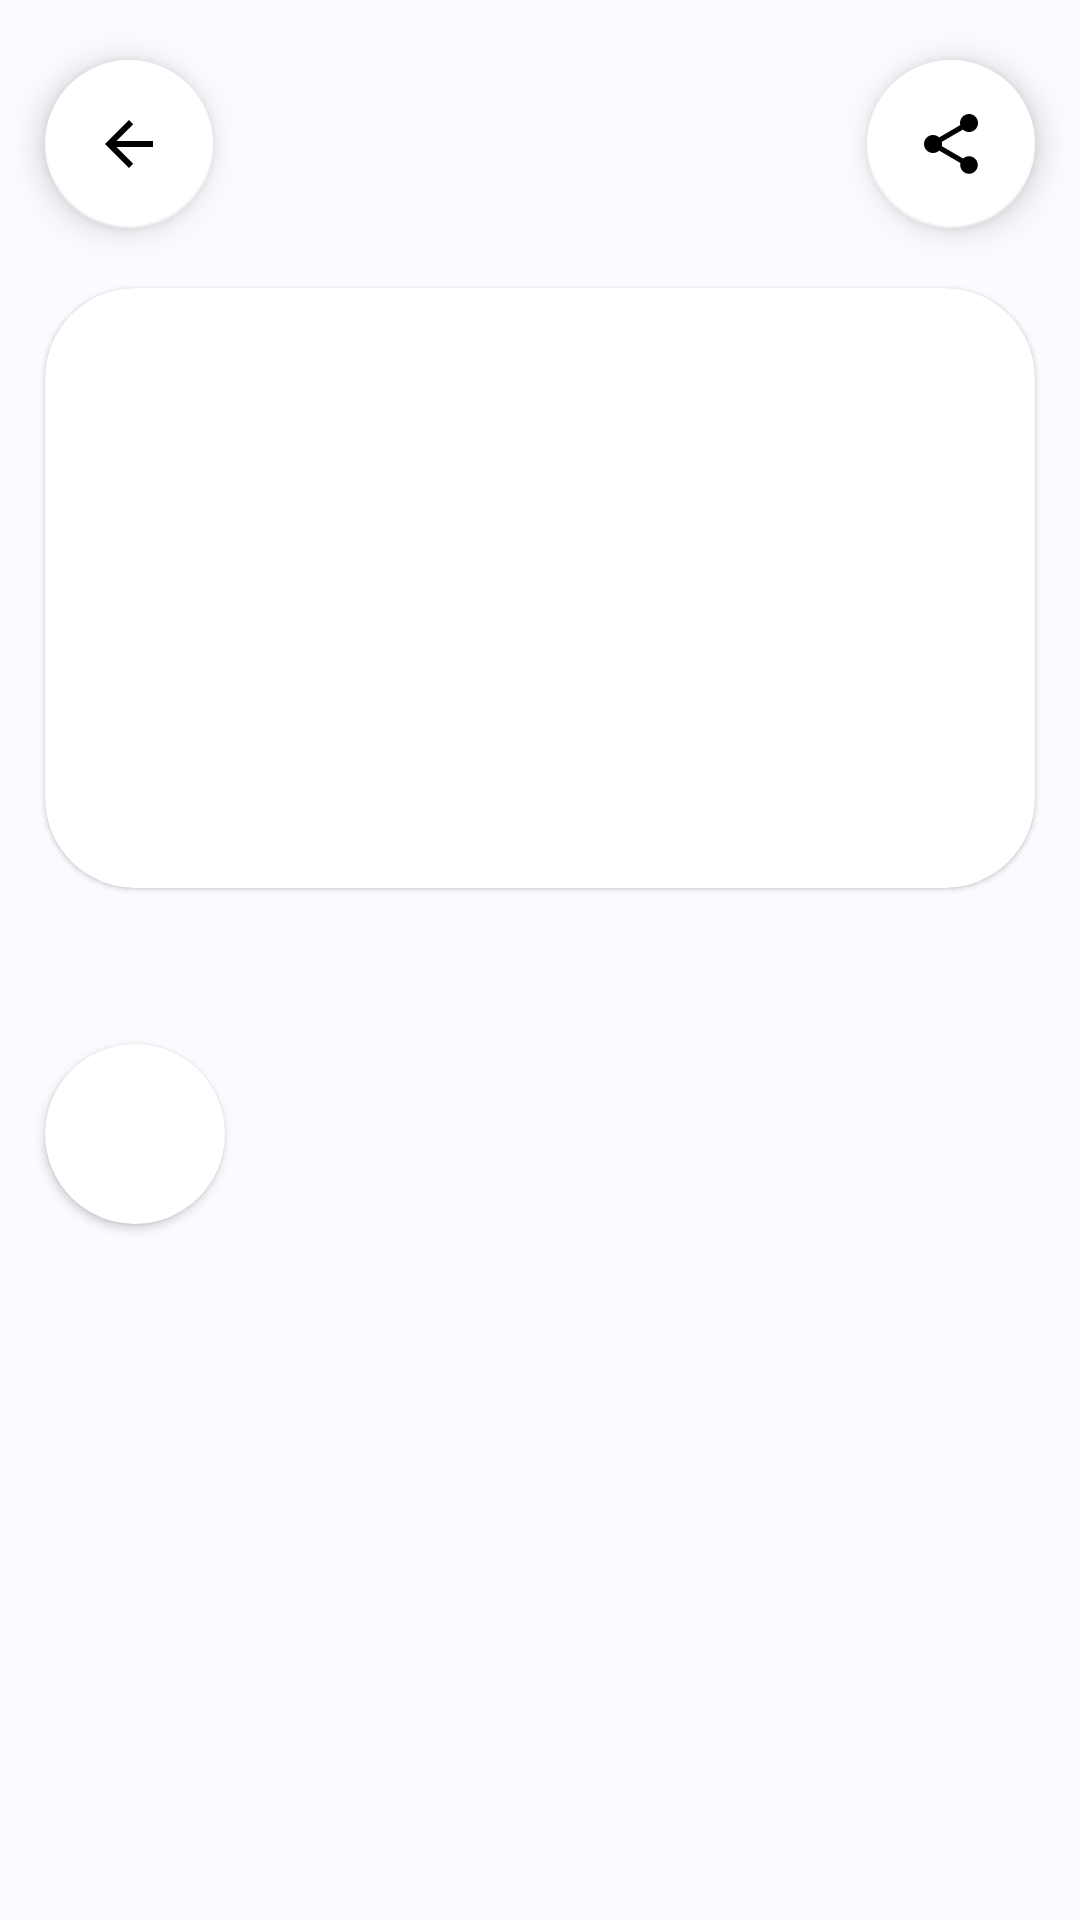

Point at icon controls on the screen. Image size 1080*1920, points as (x,y).
arrow back: (101,146)
share: (978,146)
